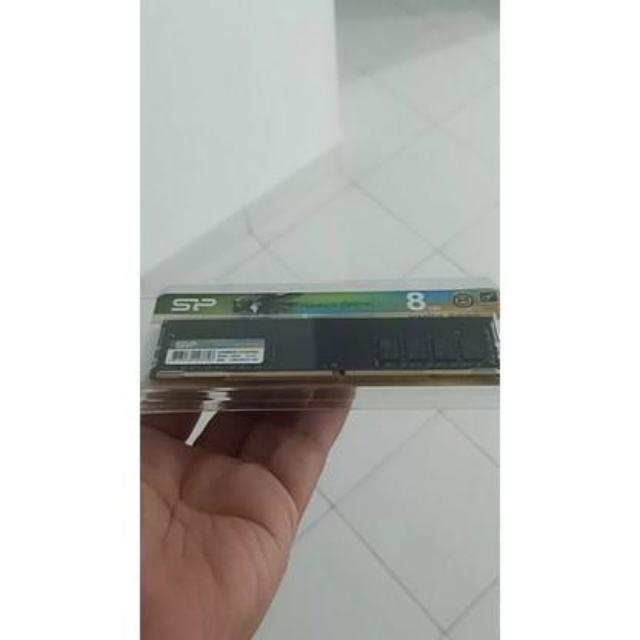RAM: (140, 304, 508, 386)
